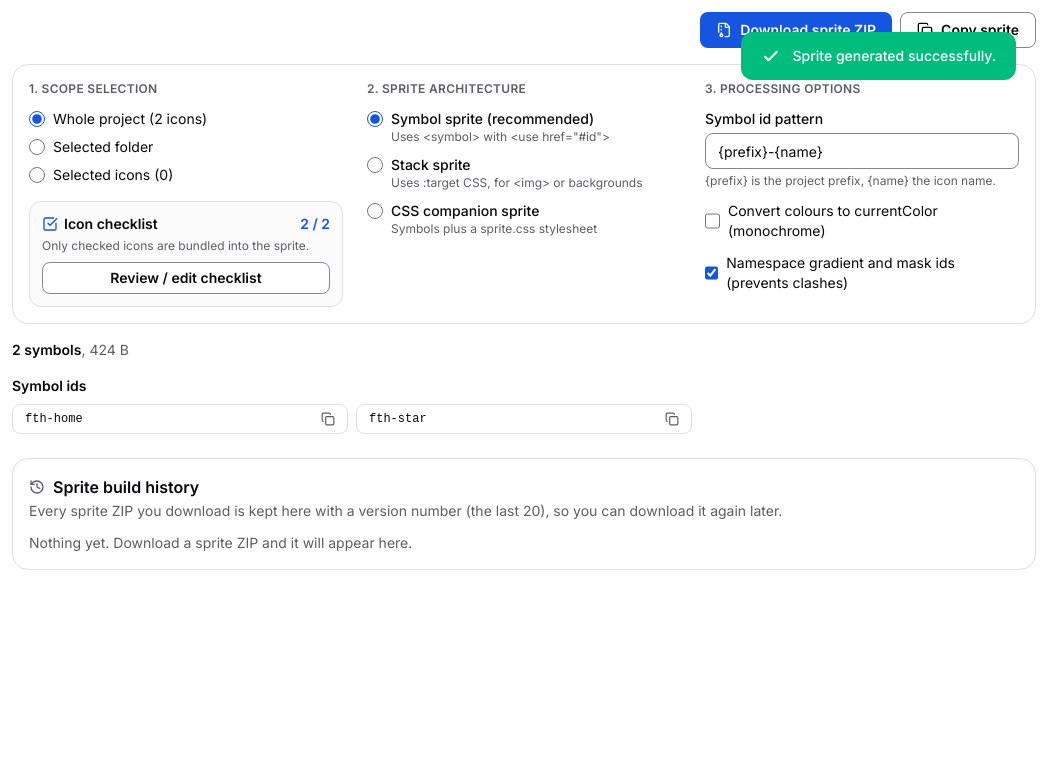
Test: copy and download › copies the sprite
The width and height of the screenshot is (1048, 780).
Click the button "Copy sprite": (968, 30) left=900, top=12, right=1036, bottom=48
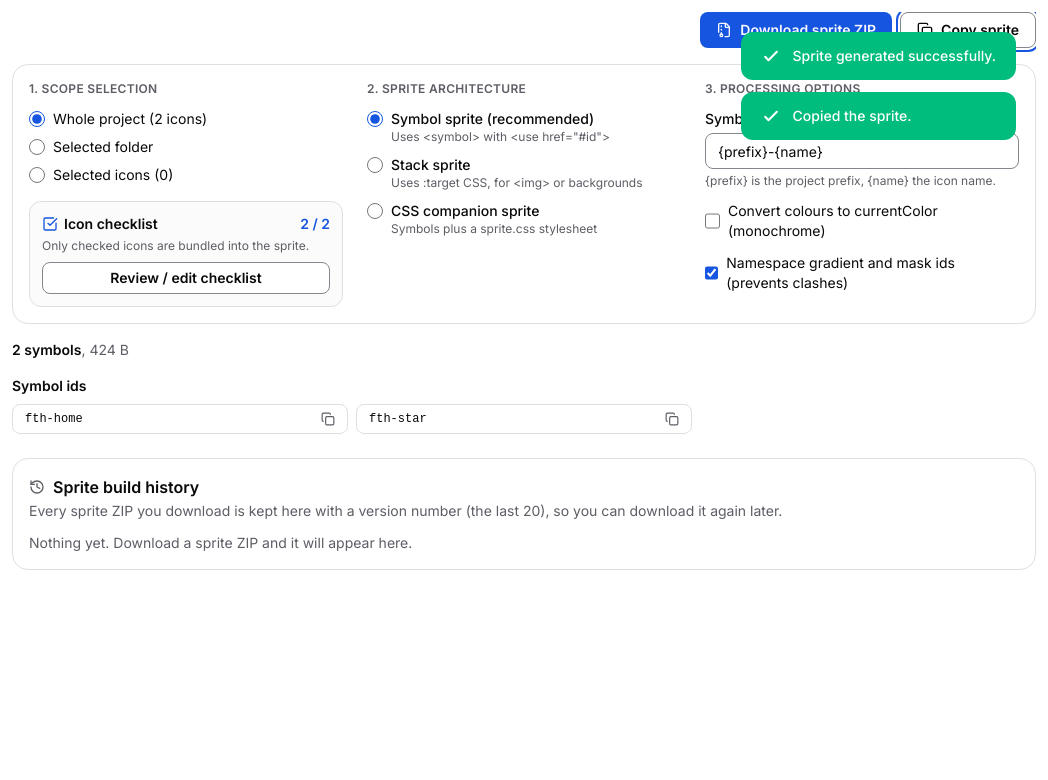
Expected: the text "Copied the sprite." is shown, left=793, top=107, right=912, bottom=124
